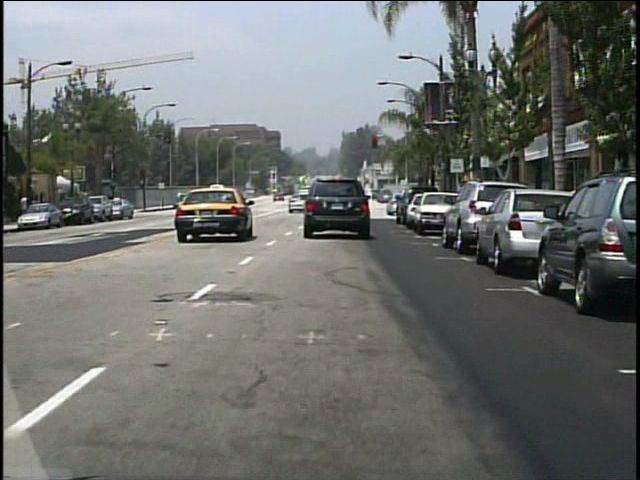person: (20, 192, 32, 224), (231, 189, 244, 212), (332, 190, 345, 213)
